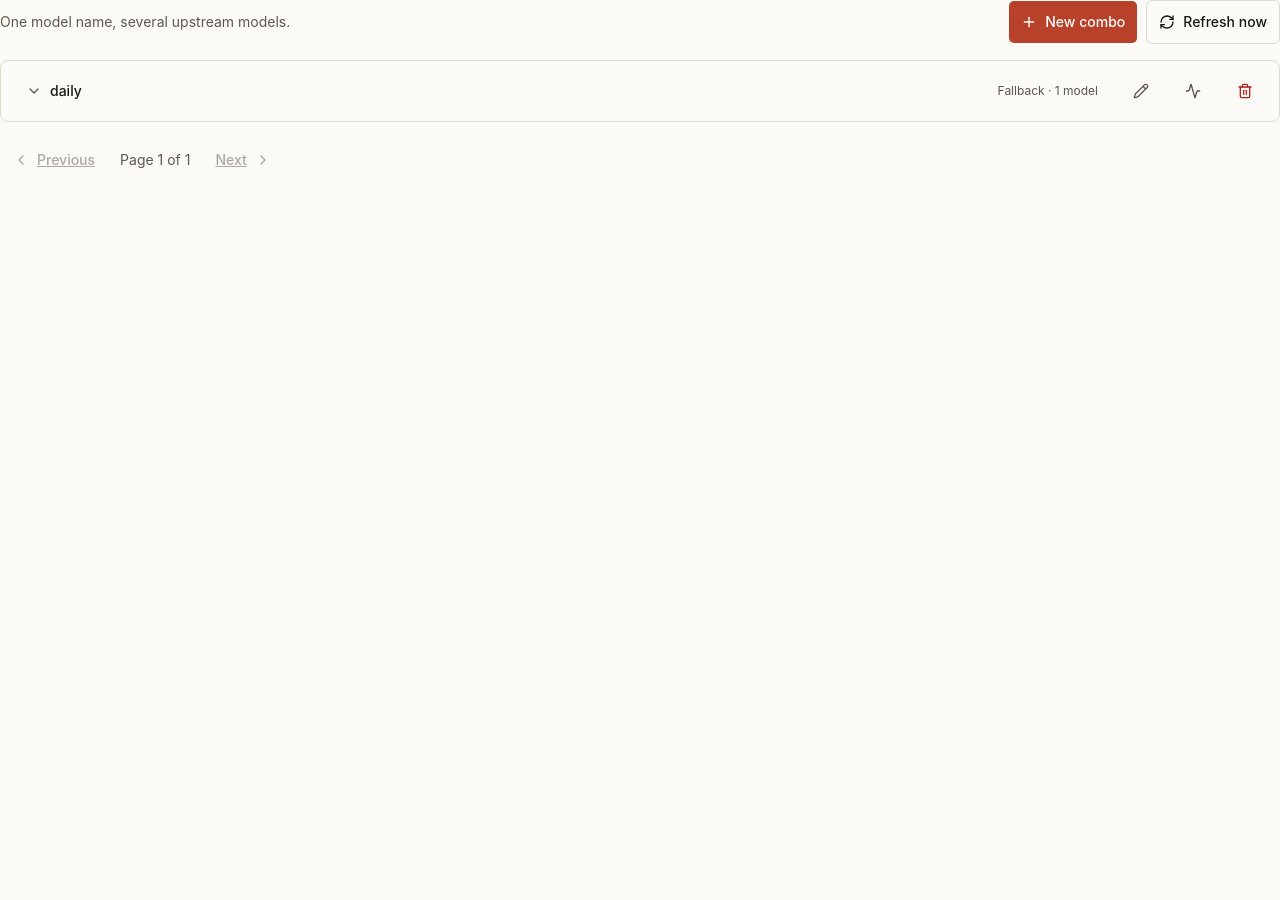
Test: running the test › reports a route error without claiming the combo was deleted
The image size is (1280, 900).
Click the button named "Test": coordinates (1193, 91) x1=1171 y1=69 x2=1215 y2=113
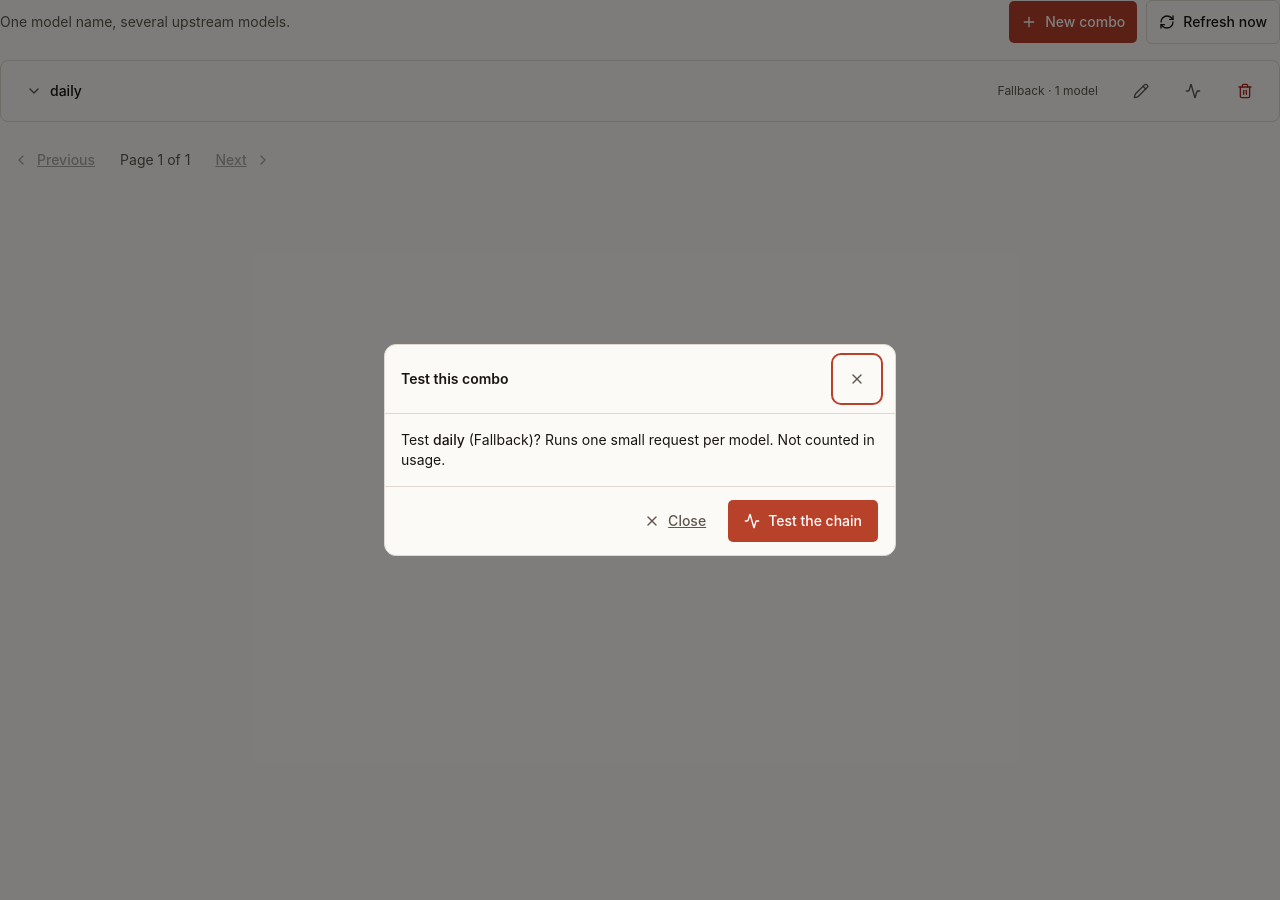
Click the button "Test the chain": coordinates (803, 521) x1=727 y1=499 x2=879 y2=543
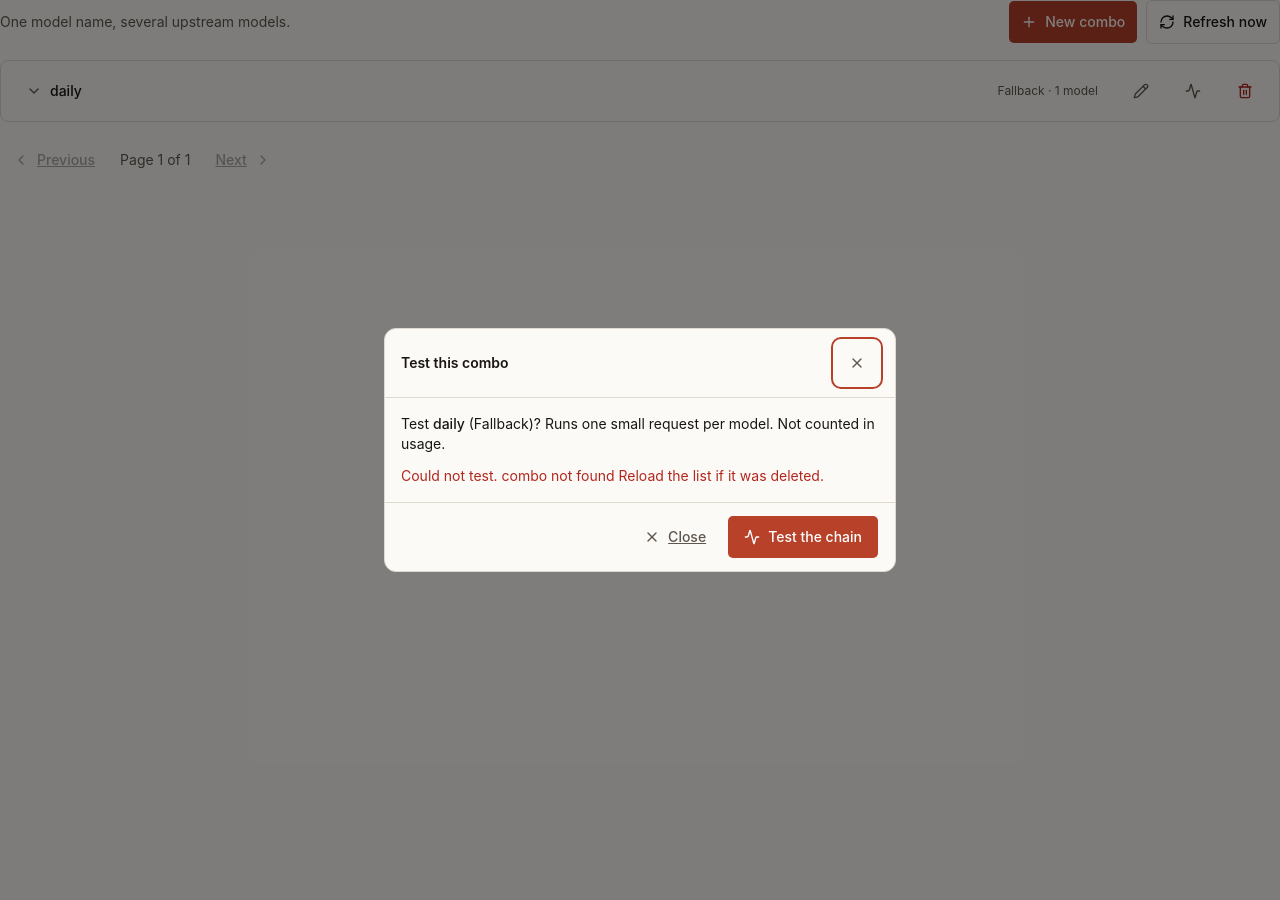
Now the text "combo not found" is shown, box x1=401 y1=467 x2=824 y2=484
